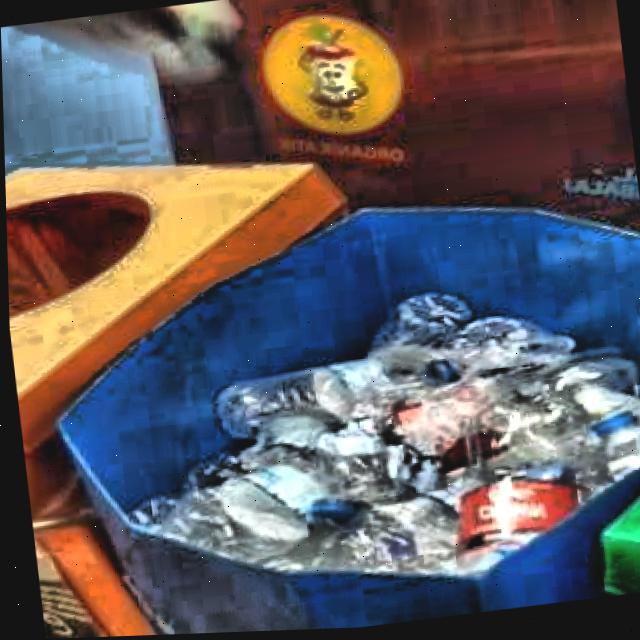metal: (38, 1, 237, 84)
